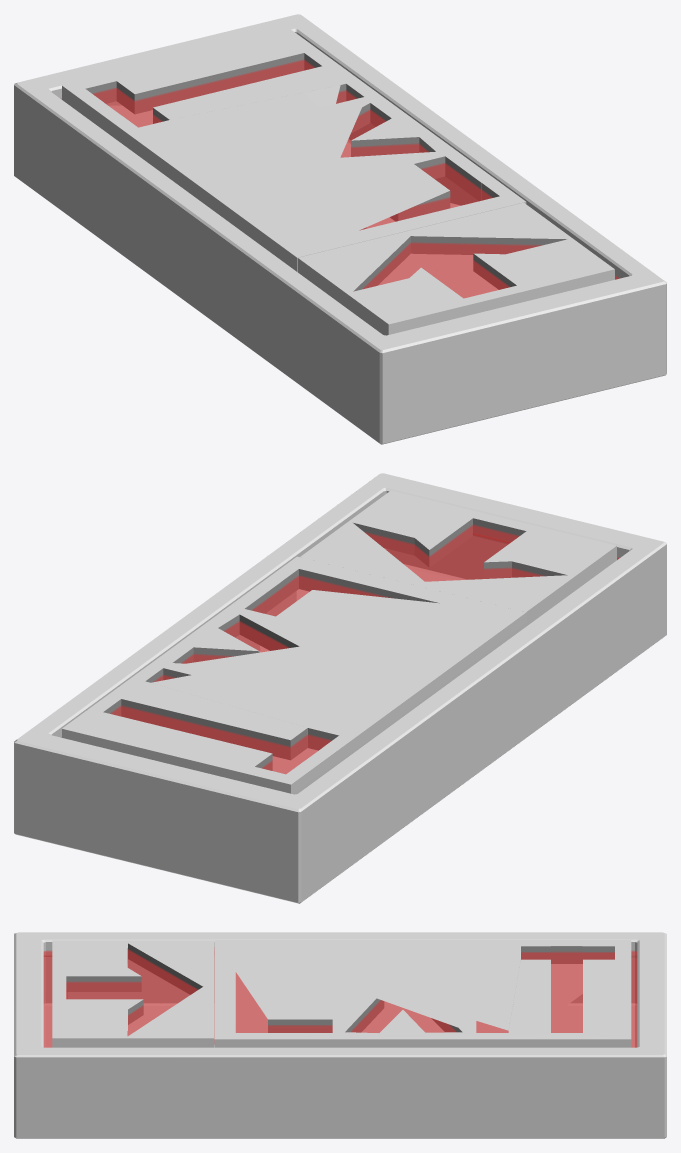
File: ExitR.fbx
3 renders of one model, top to bottom at view 1: azimuth 30°, elevation 25°; view 2: azimuth 150°, elevation 25°; view 3: azimuth 270°, elevation 25°, orthographic. The views are drawn at different scales.
Parts seen in each view (by area): view 1: polySurface56; view 2: polySurface56; view 3: polySurface56.
Boxes of the visible parts, bbox=[...] form: polySurface56: bbox=[14, 14, 666, 444]; polySurface56: bbox=[14, 473, 666, 903]; polySurface56: bbox=[14, 932, 666, 1138].
Size of the model in its own units: 4.15 by 1.36 by 9.2.
